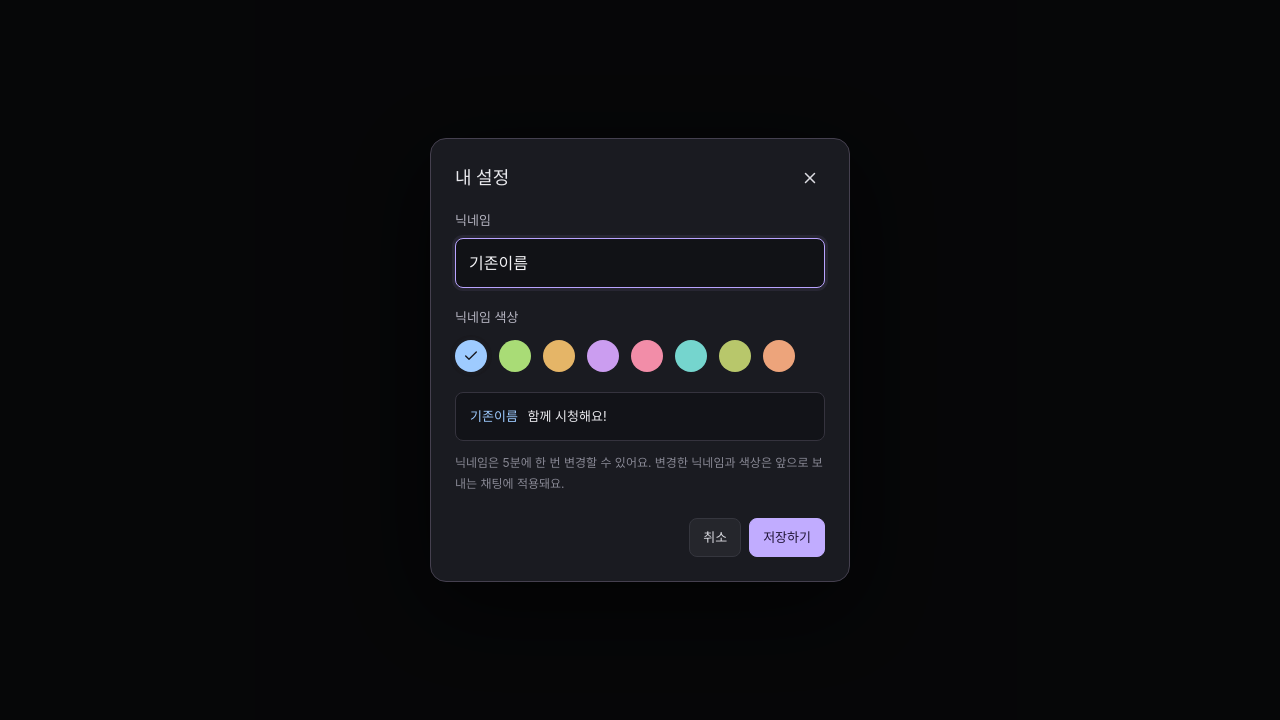
Scenario: shows server rejection without closing or discarding edits
Replace the text in the field labelled "닉네임" with "중복이름": (640, 263) [455, 238, 825, 288]
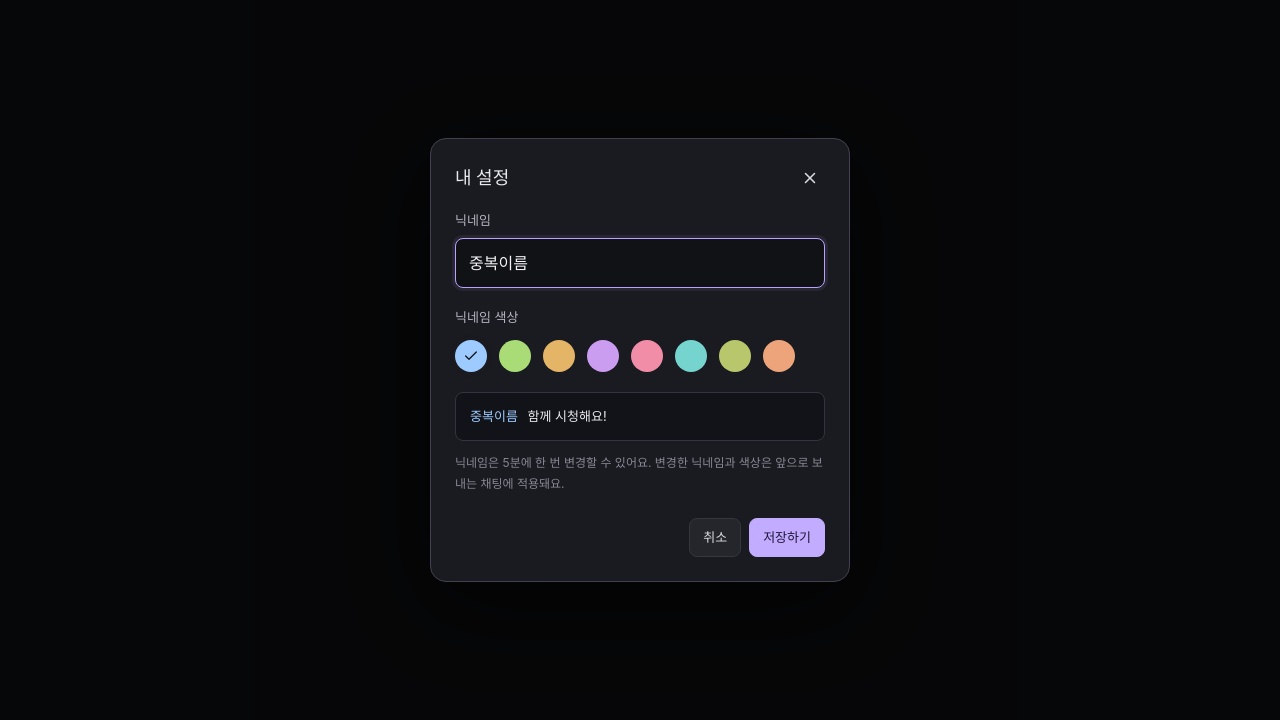
Click the button "저장하기": (787, 538) [749, 518, 825, 557]
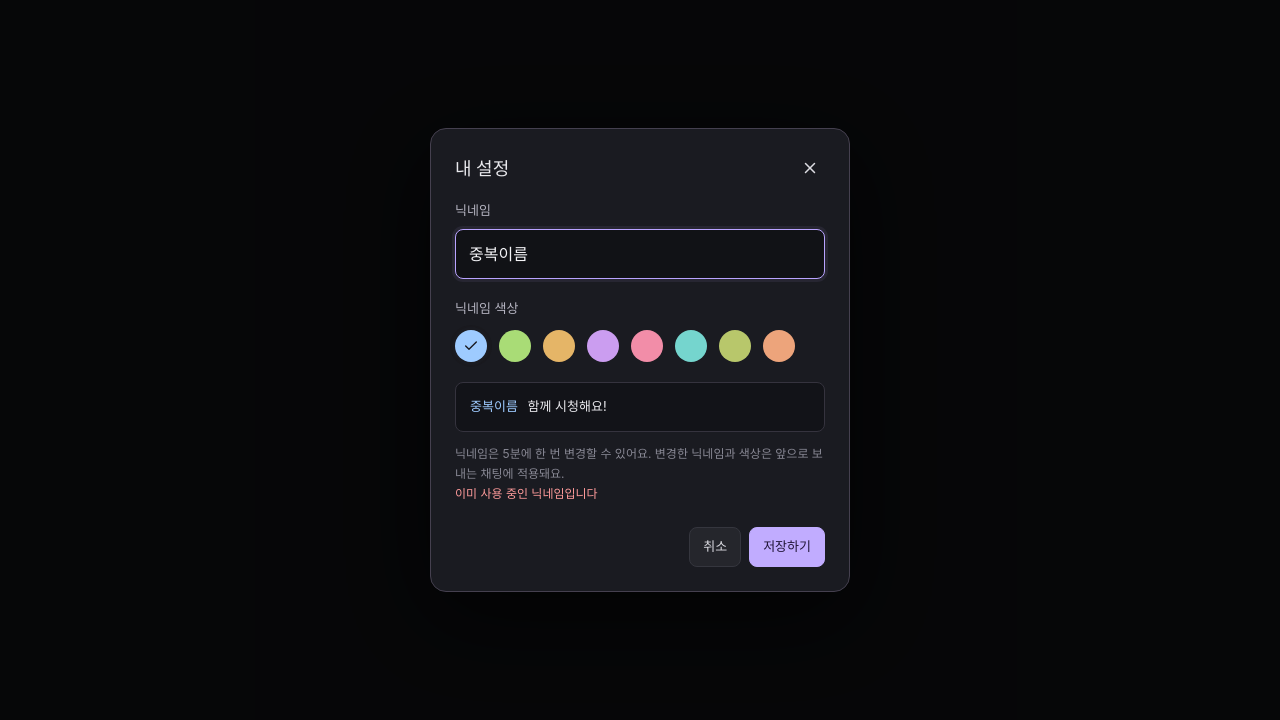
Check: the message reads "이미 사용 중인 닉네임입니다", box [455, 486, 598, 501]
